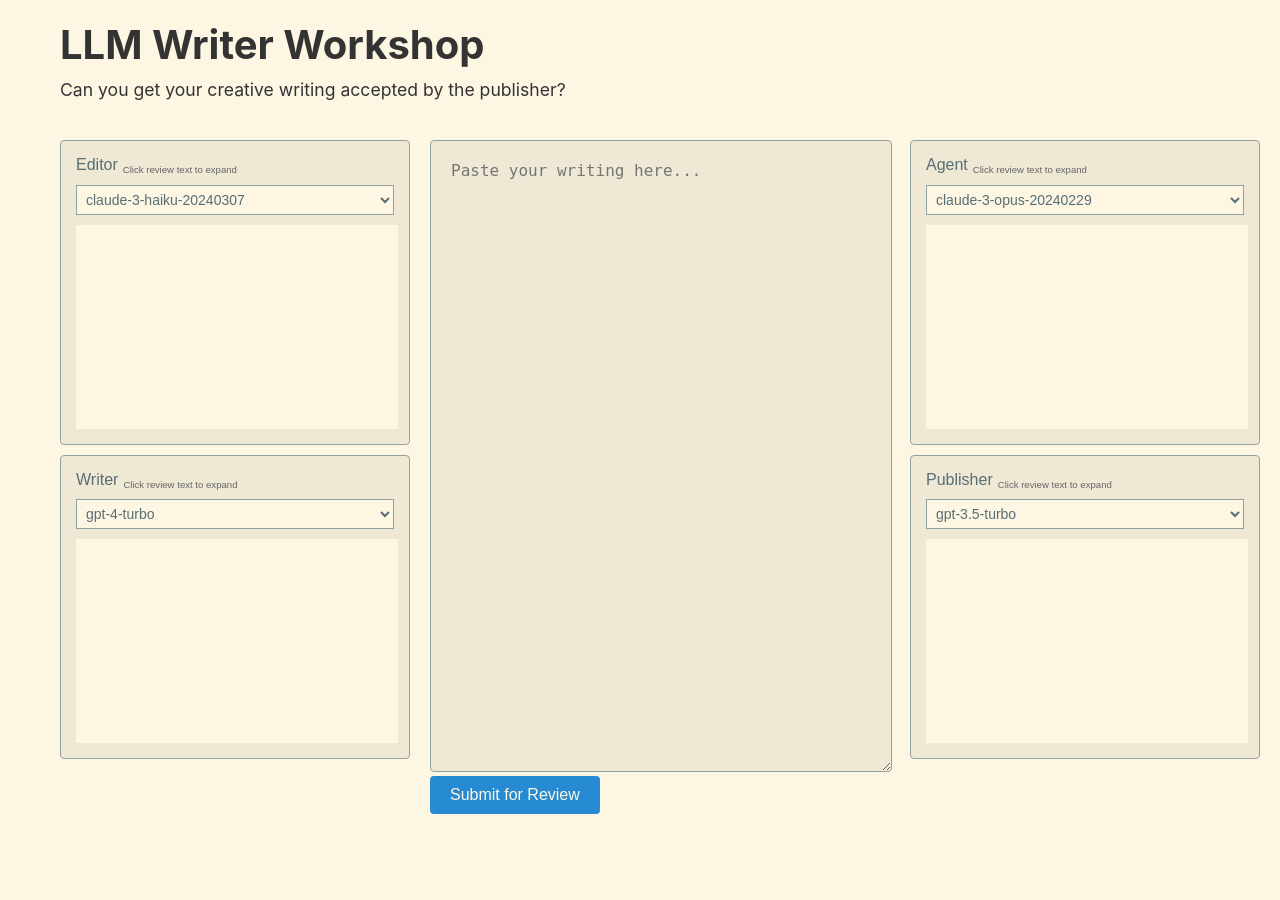
Test: App › submits the form and updates responses
Step 1. Click the button "Submit for Review" → (515, 795), box [430,776,600,814]
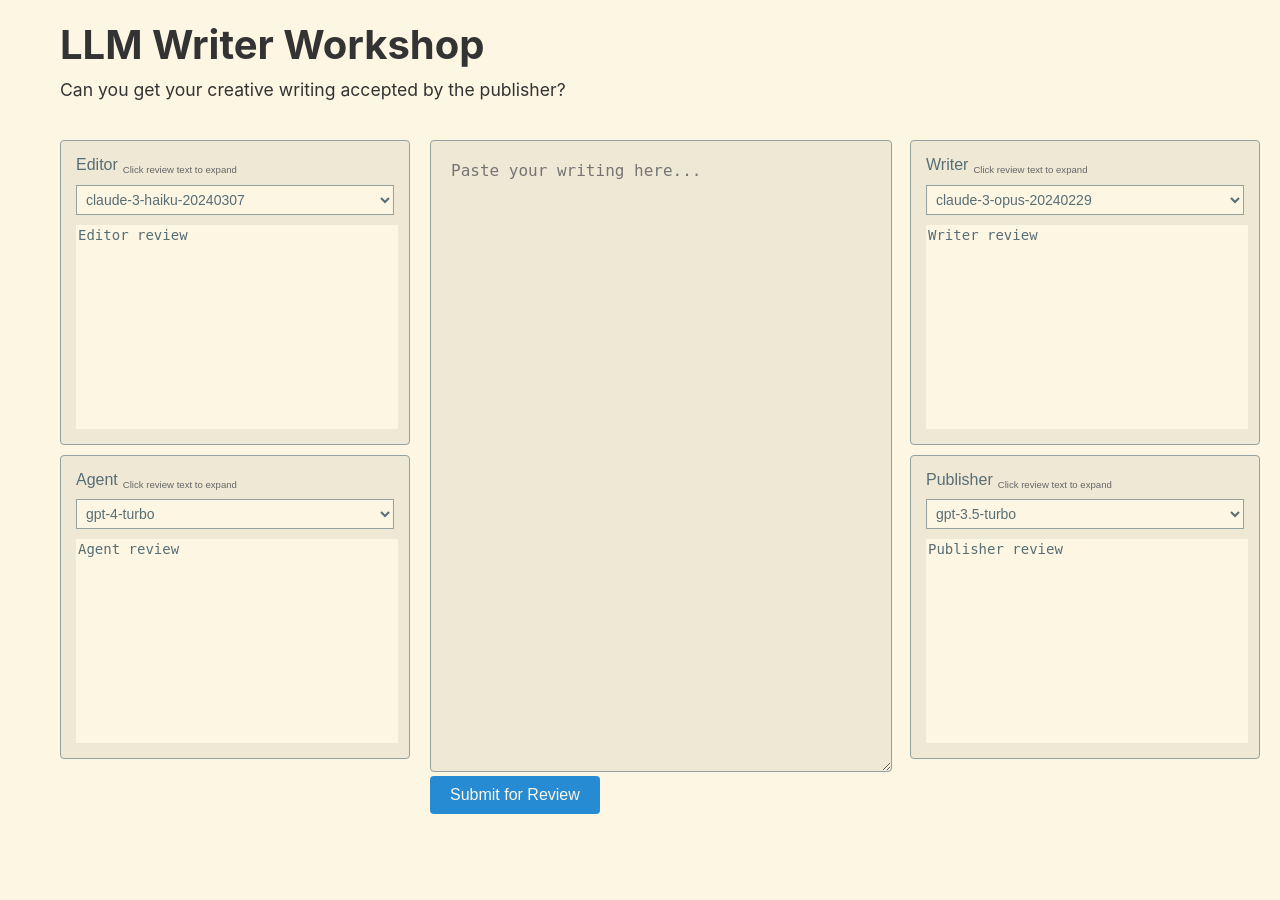
Now the text box "Editor review" below "Editor" is shown, box [76,225,398,429]
Now the text box "Agent review" below "Agent" is shown, box [76,539,398,743]
Now the 2nd text box "Writer review" is shown, box [926,225,1248,429]
